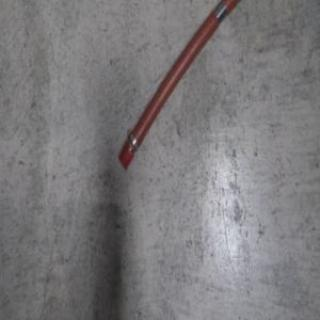Hosetrack_idkeyframe: (116, 0, 246, 173)
